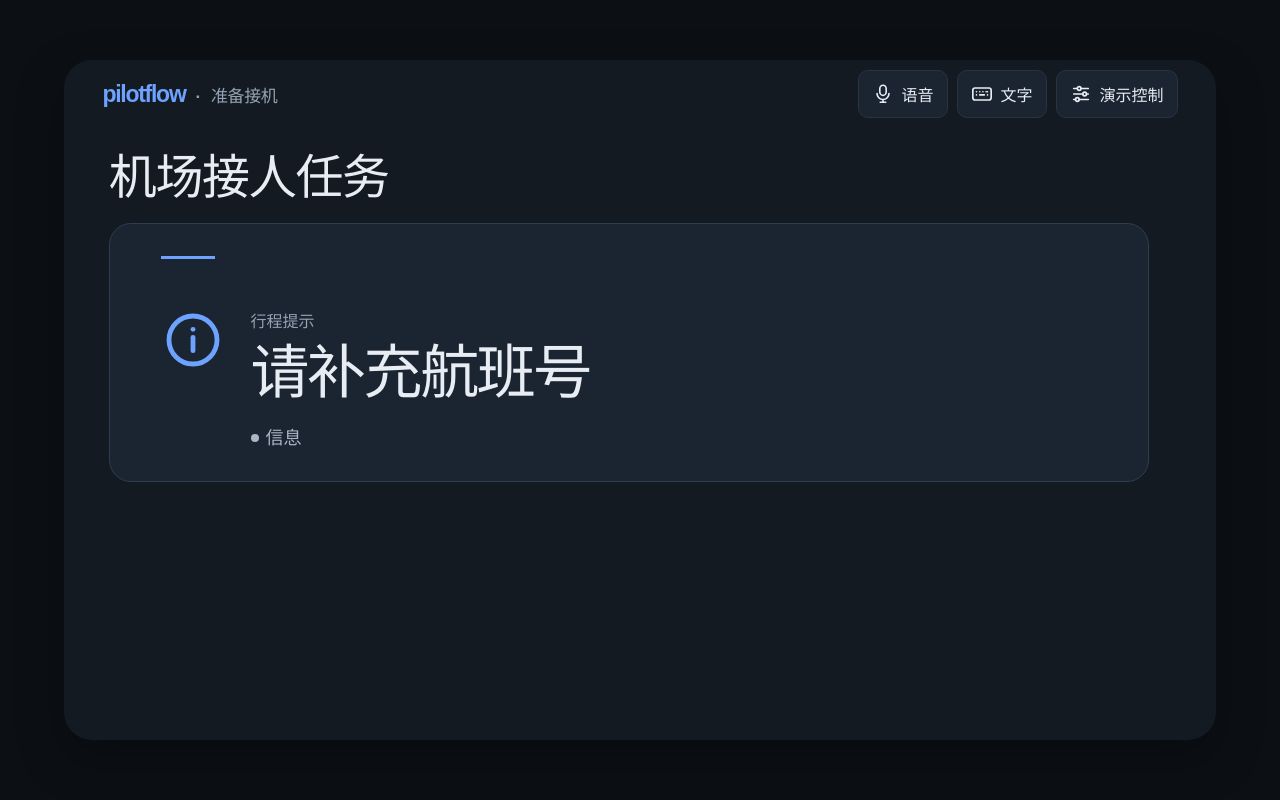
demo integration › advances the rendered demo from main-flow through the charging step
What coordinates should you click on to do the following:
click the button with aria-label "打开演示控制"
I would click on:
 (1117, 94)
Its box is [1056, 70, 1178, 118].
(page scrolled)
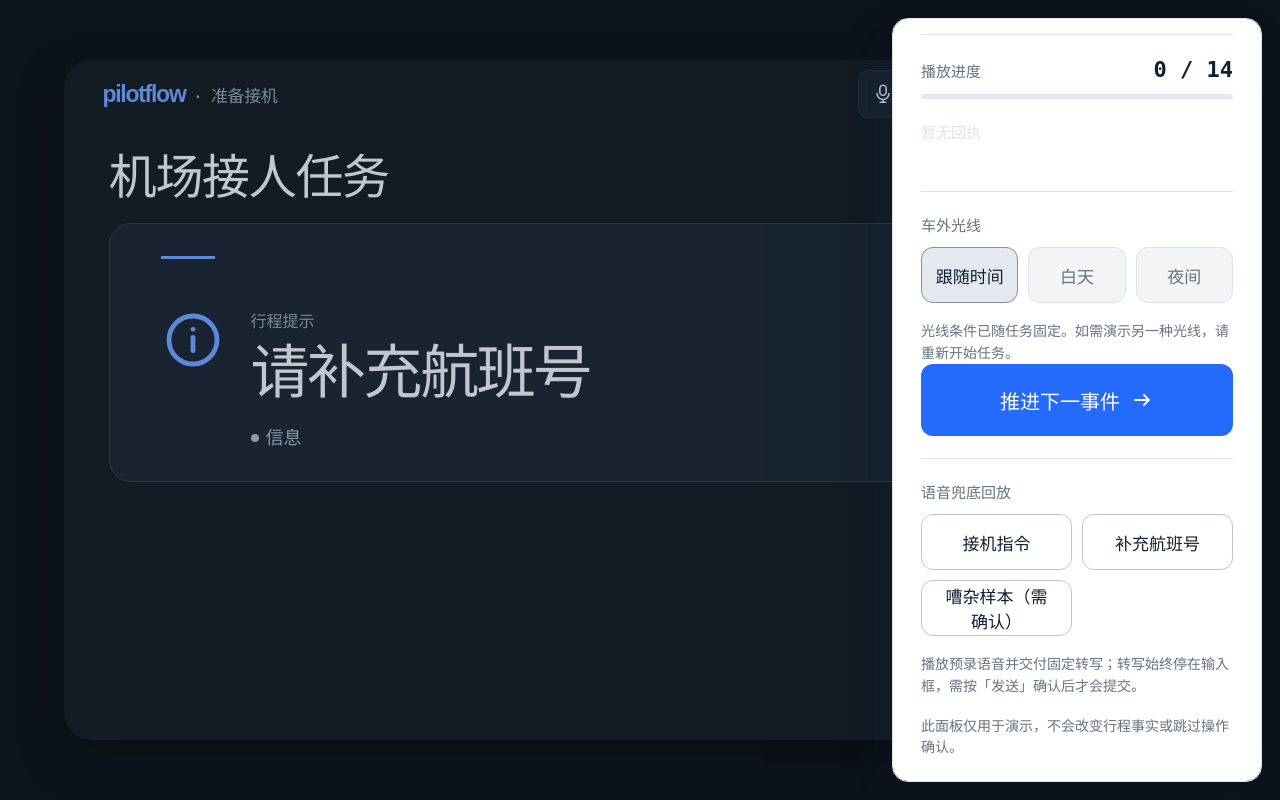
Expected: the text "准备接机" is shown, [211, 82, 278, 106]
What coordinates should you click on to do the following:
click the button "推进下一事件"
I would click on:
 (1077, 400)
Its box is [921, 364, 1233, 436].
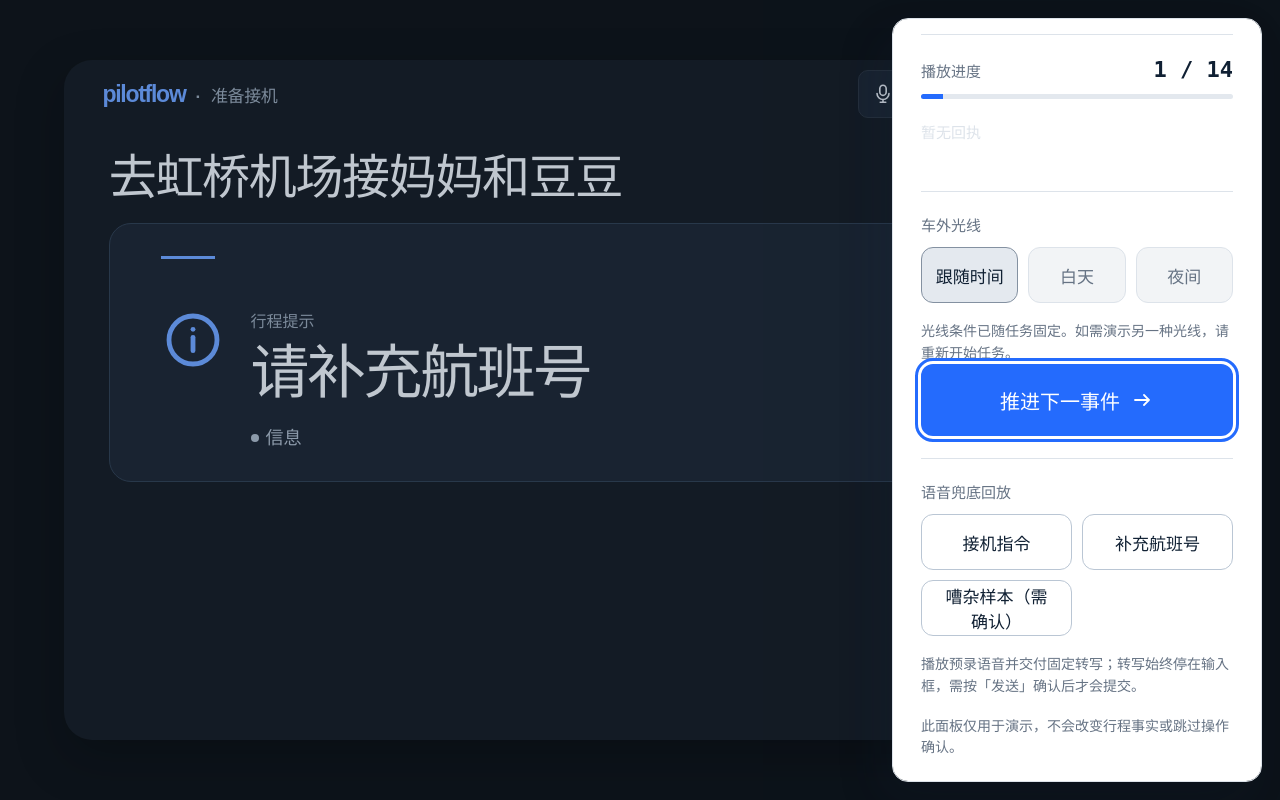
What coordinates should you click on to do the following:
click the button "推进下一事件"
I would click on:
 (1077, 400)
Its box is [921, 364, 1233, 436].
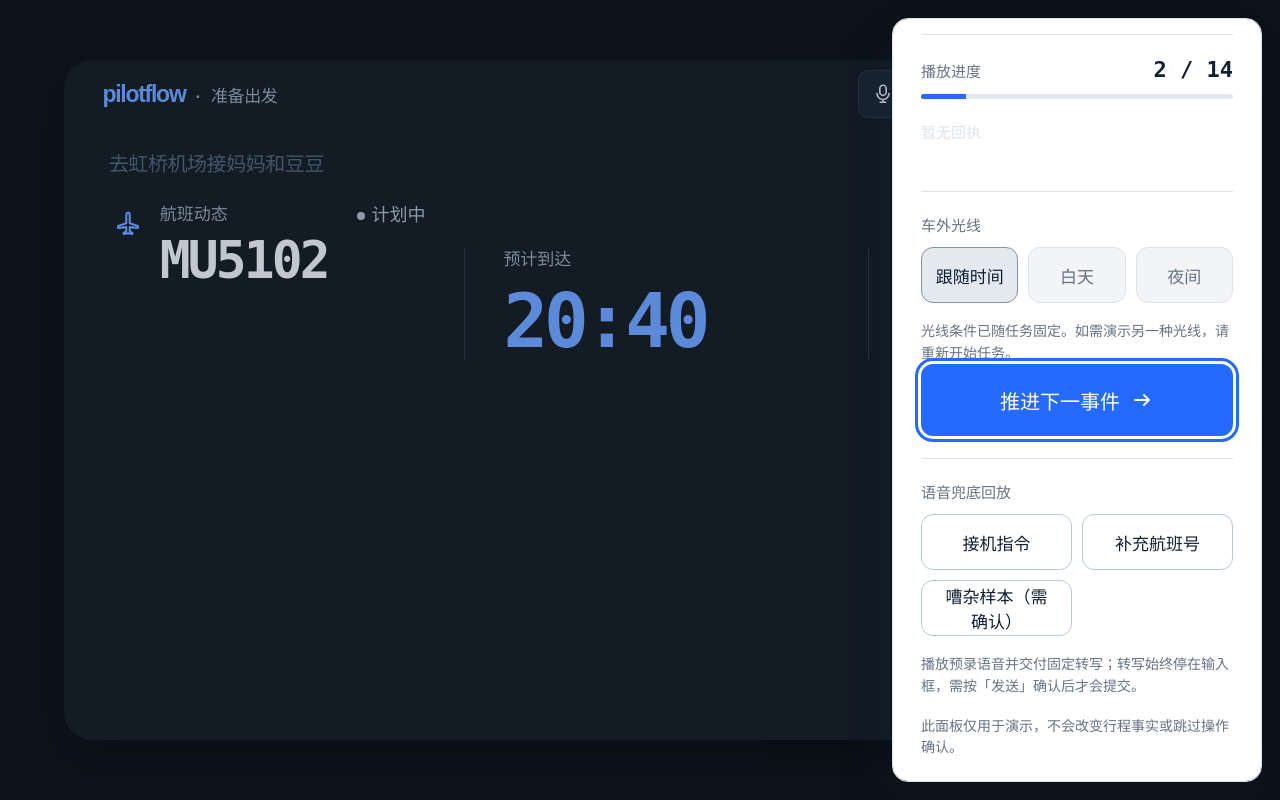
Expected: the text "准备出发" is shown, [211, 82, 278, 106]
What coordinates should you click on to do the following:
click the button "推进下一事件"
I would click on:
 (1077, 400)
Its box is [921, 364, 1233, 436].
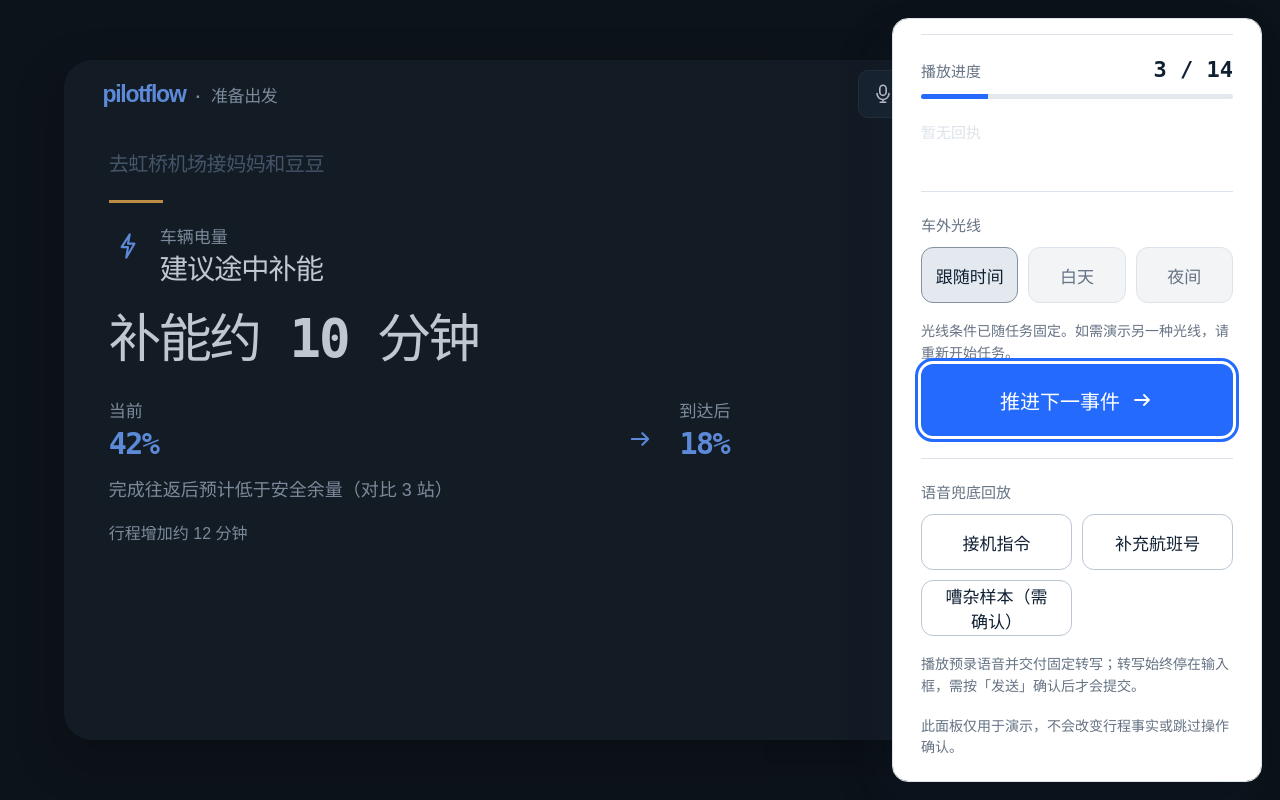
Expected: the element that starts with "车辆电量" is shown, [109, 228, 731, 542]
Expected: the element named "电量从 42% 到 18%" is shown, [109, 402, 731, 461]
Expected: the text "18%" is shown, [680, 426, 729, 461]
What coordinates should you click on to do the following:
click the button "推进下一事件"
I would click on:
 (1077, 400)
Its box is [921, 364, 1233, 436].
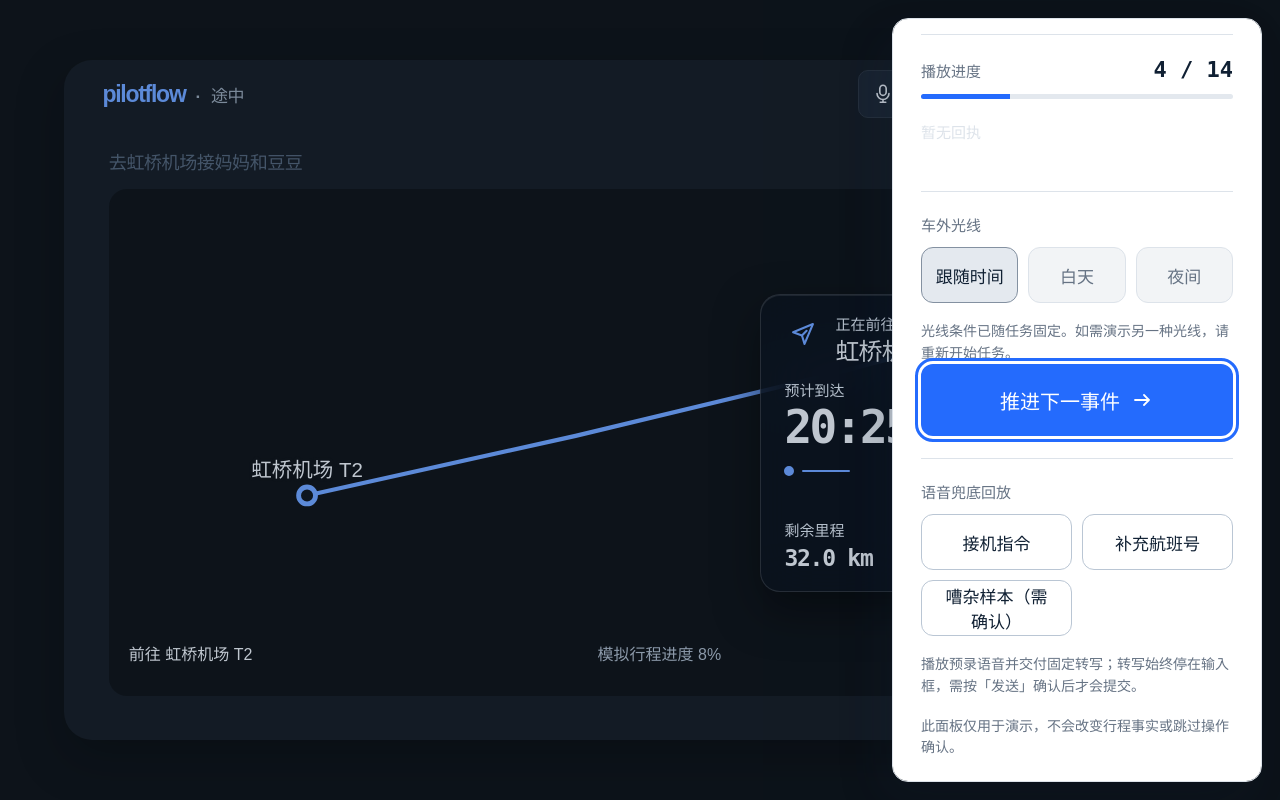
Expected: the text "途中" is shown, [211, 82, 244, 106]
